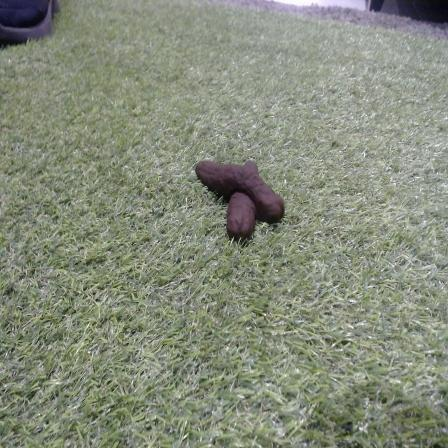dog-poop: (192, 153, 292, 237)
